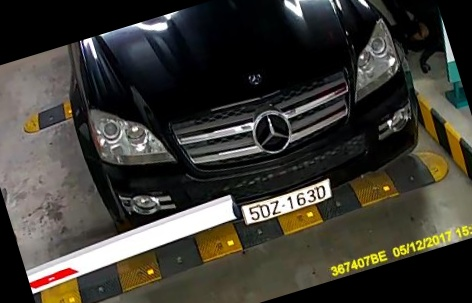plate: (238, 178, 333, 227)
